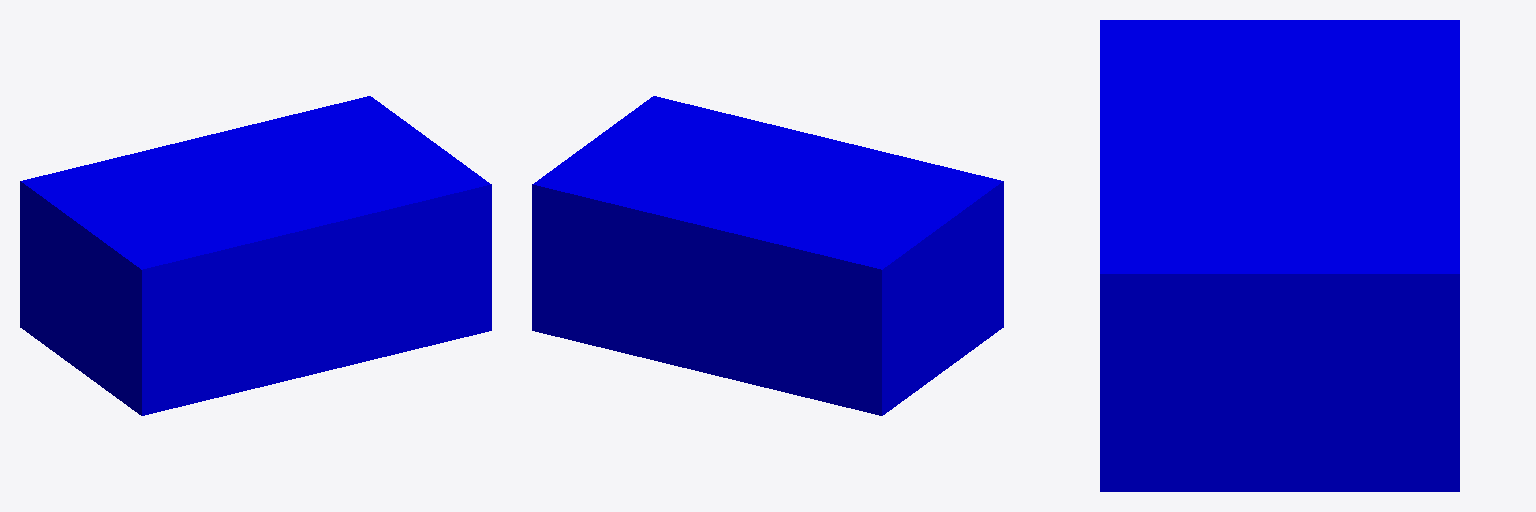
robot.urdf — cubeDE2:
<?xml version="1.0"?>
<robot name="cubeDE2">
	<link name="base">
	<inertial>
        	 <origin xyz="0 0 0" rpy="0 0 0"/>
        	 <mass value="0.5"/>
        	 <inertia ixx="0.000683333"  ixy="0"  ixz="0" iyy="0.000683333" iyz="0" izz="0.000683333" />
       </inertial>
		<visual>
			<origin xyz="0 0 0" rpy="0 0 0" />
			<geometry>
				<box size="0.05 0.03 0.02" />
			</geometry>
			<material>
				<color rgba="0 0 1 1" />
			</material>
		</visual>
		<collision>
			<origin xyz="0 0 0" rpy="0 0 0" />
			<material>
				<color rgba="0 0 1 1" />
			</material>
			<geometry>
				<box size="0.05 0.03 0.02" />
			</geometry>
			
		</collision>
		
	</link>
</robot>

--- What the picture shows (computed from the rendered views, not written in the file) ---
The picture shows the robot from 3 angles, left to right: view 1: azimuth 30°, elevation 25°; view 2: azimuth 150°, elevation 25°; view 3: azimuth 270°, elevation 25°; orthographic projection.
Robot: cubeDE2 — 1 links, 0 joints (none); root link base; default pose: all joints at 0.
Links seen in each view (by area): view 1: base; view 2: base; view 3: base.
Boxes of the visible links, <box> form: base: <box>20,96,491,415</box>; base: <box>532,96,1003,415</box>; base: <box>1100,20,1459,491</box>.
Size in the robot's own frame: 0.05 by 0.03 by 0.02 metres.
Geometry: primitives only (box / cylinder / sphere), no mesh files.
